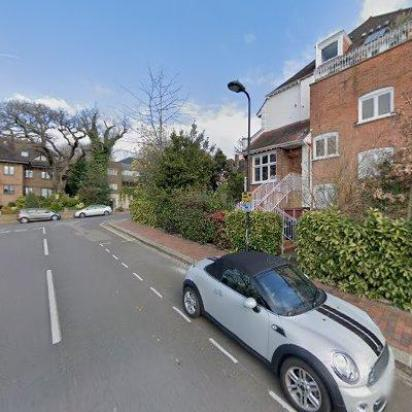stationary-car-onstreet: (182, 250, 398, 412), (16, 206, 60, 224), (74, 203, 114, 219)
